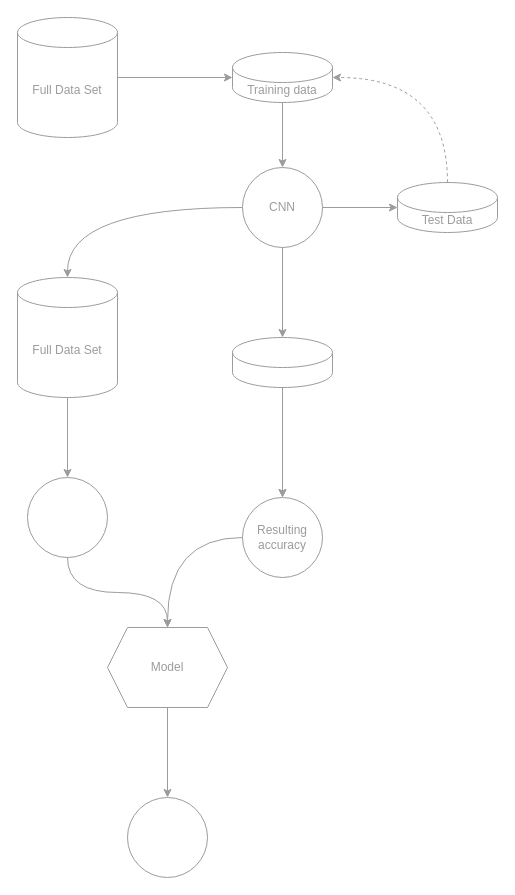
The diagram is 515 pixels wide and 895 high, and some of its shapes have lost their labels. Here are the shapes that lost their labels. From the top down, the box of each, then its label:
(232, 336, 332, 388): Validation data
(26, 476, 108, 558): Processed data
(126, 796, 208, 878): Inference
